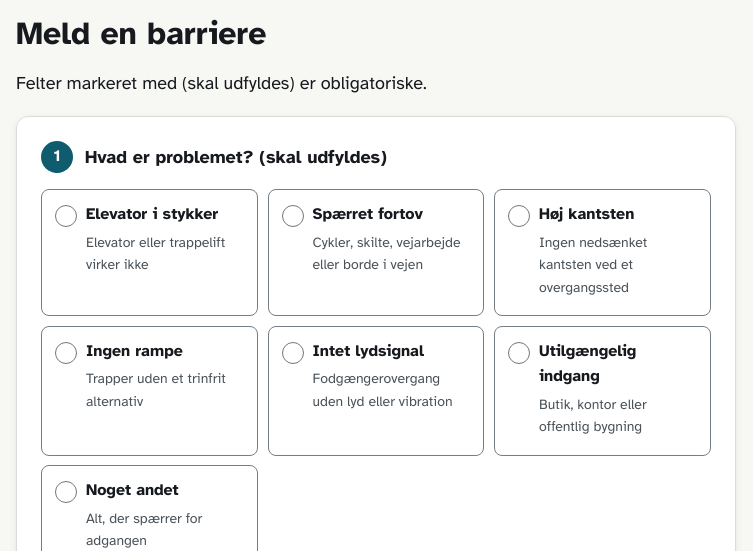
Test: NewReportPage › warns about existing reports nearby while filling in the form
This screenshot has width=753, height=551.
Click the radio button labelled "Elevator i stykker Elevator eller trappelift virker ikke" at point(66, 216), box [55, 205, 77, 227]
(page scrolled)
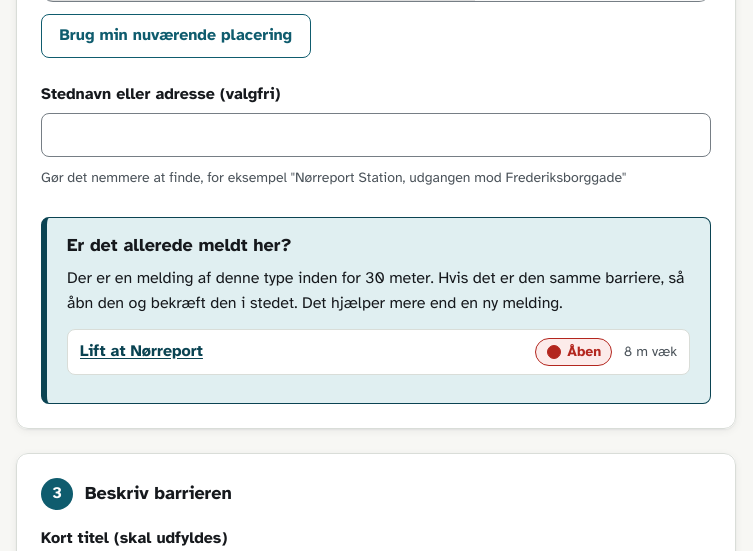
Expected: the heading "Er det allerede meldt her?" is shown, [67, 234, 292, 256]
Expected: the link "Lift at Nørreport" is shown, [80, 339, 203, 365]
